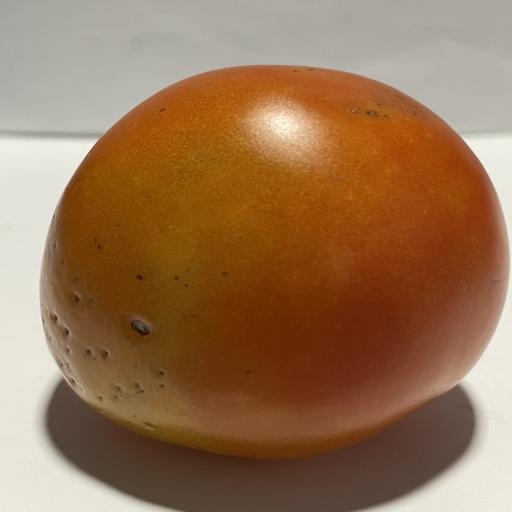ripe: (41, 66, 509, 458)
